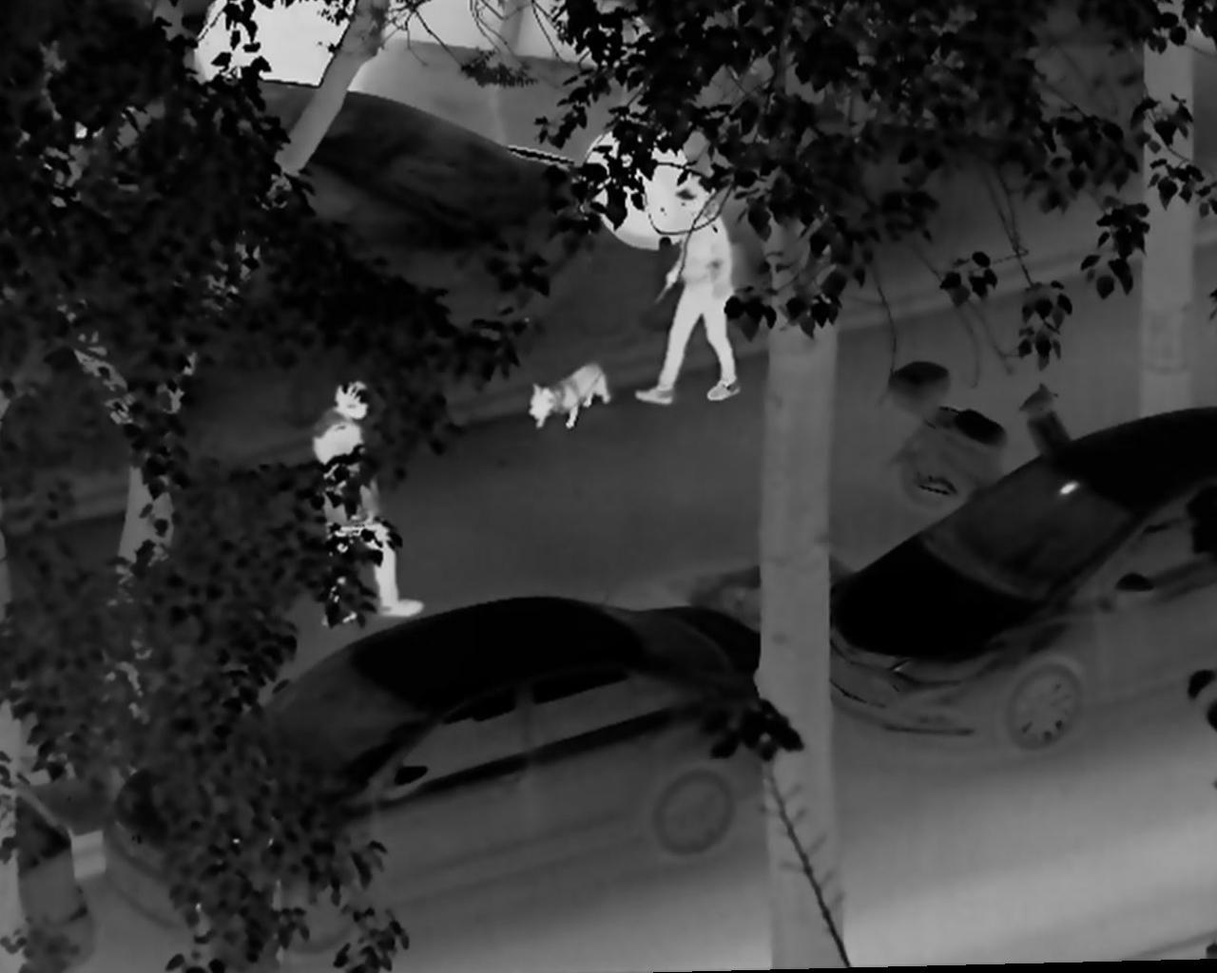person: (309, 379, 420, 630), (632, 182, 740, 406)
